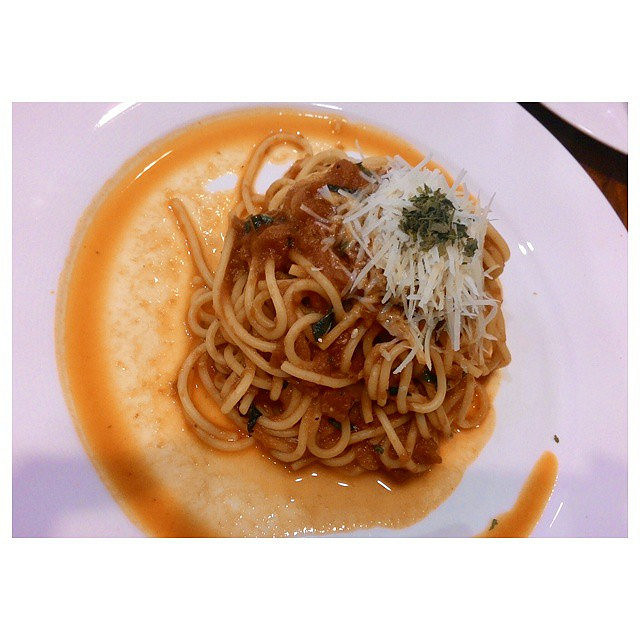plain spaghetti: (218, 208, 484, 455)
